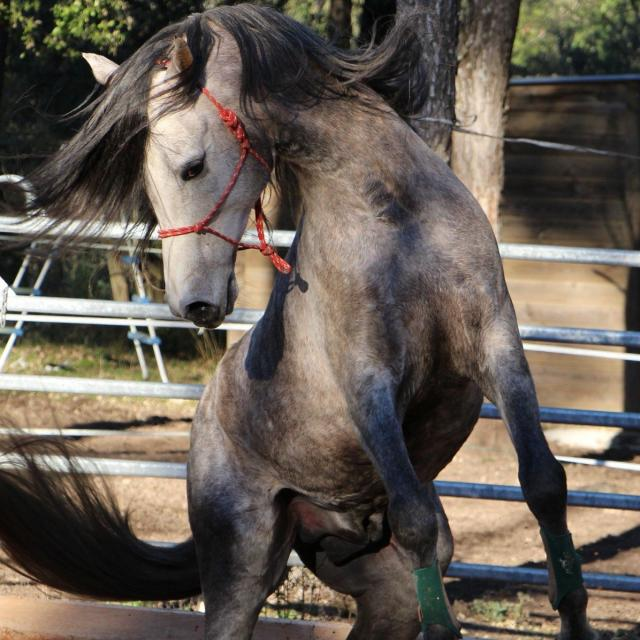Horse: (18, 7, 546, 633)
